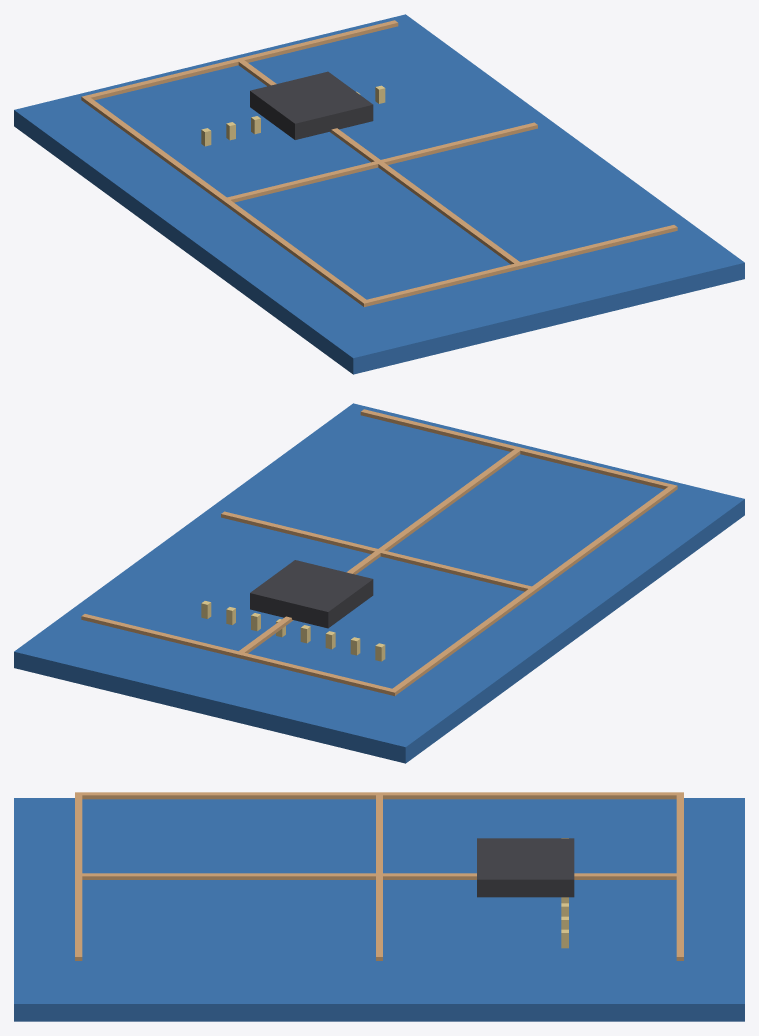
The model's file is rfid.glb.
3 renders of one model, top to bottom at view 1: azimuth 30°, elevation 25°; view 2: azimuth 150°, elevation 25°; view 3: azimuth 270°, elevation 25°, orthographic. The views are drawn at different scales.
Visible parts, largest first — view 1: pcb, antenna-coil, controller, header; view 2: pcb, antenna-coil, controller, header; view 3: pcb, antenna-coil, controller, header.
Boxes of the visible parts, <box> form: pcb: <box>14,14,744,374</box>; antenna-coil: <box>81,20,677,307</box>; controller: <box>250,71,373,139</box>; header: <box>201,85,385,146</box>; pcb: <box>14,403,744,763</box>; antenna-coil: <box>81,409,677,696</box>; controller: <box>250,560,373,628</box>; header: <box>201,601,385,661</box>; pcb: <box>14,798,744,1021</box>; antenna-coil: <box>75,792,683,960</box>; controller: <box>477,838,574,897</box>; header: <box>561,838,568,948</box>.
Size of the model in its own units: 0.04 by 0.0094 by 0.06.
